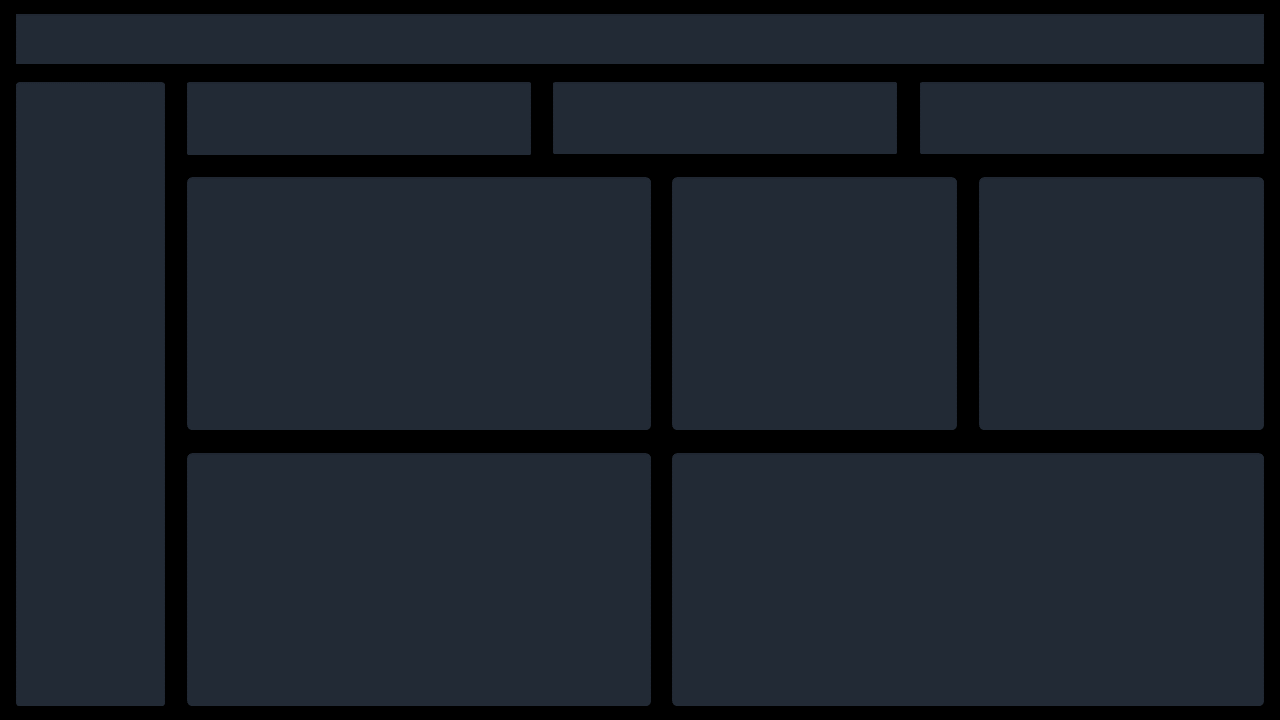

The page's visual inventory and layout, read from the dashboard file:
{"tool":"tableau","page":{"name":"CAR SALES DASHBOARD","canvas":[1600,900],"ordinal":0},"visuals":[{"type":"image","param":"Image/Slide1.PNG","box":[8,8,1584,884]},{"type":"text","box":[567,32,498,52]},{"type":"image","param":"Image/Car Icon.png","box":[547,34,66,48]},{"type":"worksheet","title":"Date Range","mark":"Automatic","box":[1231,37,317,43]},{"type":"image","param":"Image/calendar.png","box":[1260,40,36,38]},{"type":"worksheet","title":"YTD Total Sales","mark":"Automatic","box":[250,114,413,83]},{"type":"worksheet","title":"YTD Avg Price","mark":"Automatic","box":[697,115,407,81]},{"type":"worksheet","title":"YTD Cars Sold","mark":"Automatic","box":[1143,115,411,81]},{"type":"image","param":"Image/Cars Sold Icon.png","box":[1518,115,35,32]},{"type":"image","param":"Image/Sales Icon.png","box":[627,116,35,32]},{"type":"image","param":"Image/Avg Price Icon.png","box":[1071,116,35,32]},{"type":"text","box":[71,121,120,28]},{"type":"text","box":[80,189,100,30]},{"type":"filter","title":"YTD Sales Weeky Trend","param":"[federated.0mtko3r1x2kug51ftodcr00n9wtt].[none:Date:qk]","box":[46,221,170,61]},{"type":"worksheet","title":"YTD Total Sales by Body Style","mark":"Pie","box":[841,230,340,301]},{"type":"worksheet","title":"YTD Total Sales by Colour","mark":"Pie","rows":["Calculation_901564405766823948","Calculation_901564405766889486"],"box":[1216,231,336,299]},{"type":"worksheet","title":"YTD Sales Weeky Trend","mark":"Area","rows":["Calculation_901564405691371520","Calculation_901564405691371520"],"cols":["Date"],"box":[253,232,553,298]},{"type":"filter","title":"YTD Sales Weeky Trend","param":"[federated.0mtko3r1x2kug51ftodcr00n9wtt].[none:Transmission:nk]","box":[47,303,167,47]},{"type":"filter","title":"YTD Sales Weeky Trend","param":"[federated.0mtko3r1x2kug51ftodcr00n9wtt].[none:Body Style:nk]","box":[50,369,161,51]},{"type":"filter","title":"YTD Sales Weeky Trend","param":"[federated.0mtko3r1x2kug51ftodcr00n9wtt].[none:Engine:nk]","box":[50,434,159,41]},{"type":"filter","title":"YTD Sales Weeky Trend","param":"[federated.0mtko3r1x2kug51ftodcr00n9wtt].[none:Gender:nk]","box":[50,497,157,47]},{"type":"worksheet","title":"Company-Wise Sales Trend in Grid Form","mark":"Automatic","rows":["Company"],"box":[843,567,710,298]},{"type":"worksheet","title":"YTD Cars Sold by Dealer Region","mark":"Automatic","rows":["Dealer_Region"],"cols":["Calculation_901564405691371520"],"box":[253,568,556,301]},{"type":"legend","title":"YTD Cars Sold by Dealer Region","param":"[federated.0mtko3r1x2kug51ftodcr00n9wtt].[none:Transmission:nk]","box":[532,573,233,28]}]}

Visuals, with their boxes in screenshot pixels (x1, y1, x2, y2), scaled from the page's 1600x900 canvas onto the 1280x720 screenshot:
image: bbox=[6, 6, 1274, 714]
text: bbox=[454, 26, 852, 67]
image: bbox=[438, 27, 490, 66]
"Date Range" worksheet: bbox=[985, 30, 1238, 64]
image: bbox=[1008, 32, 1037, 62]
"YTD Total Sales" worksheet: bbox=[200, 91, 530, 158]
"YTD Avg Price" worksheet: bbox=[558, 92, 883, 157]
"YTD Cars Sold" worksheet: bbox=[914, 92, 1243, 157]
image: bbox=[1214, 92, 1242, 118]
image: bbox=[502, 93, 530, 118]
image: bbox=[857, 93, 885, 118]
text: bbox=[57, 97, 153, 119]
text: bbox=[64, 151, 144, 175]
"YTD Sales Weeky Trend" filter: bbox=[37, 177, 173, 226]
"YTD Total Sales by Body Style" worksheet (Pie marks): bbox=[673, 184, 945, 425]
"YTD Total Sales by Colour" worksheet (Pie marks): bbox=[973, 185, 1242, 424]
"YTD Sales Weeky Trend" worksheet (Area marks): bbox=[202, 186, 645, 424]
"YTD Sales Weeky Trend" filter: bbox=[38, 242, 171, 280]
"YTD Sales Weeky Trend" filter: bbox=[40, 295, 169, 336]
"YTD Sales Weeky Trend" filter: bbox=[40, 347, 167, 380]
"YTD Sales Weeky Trend" filter: bbox=[40, 398, 166, 435]
"Company-Wise Sales Trend in Grid Form" worksheet: bbox=[674, 454, 1242, 692]
"YTD Cars Sold by Dealer Region" worksheet: bbox=[202, 454, 647, 695]
"YTD Cars Sold by Dealer Region" legend: bbox=[426, 458, 612, 481]
